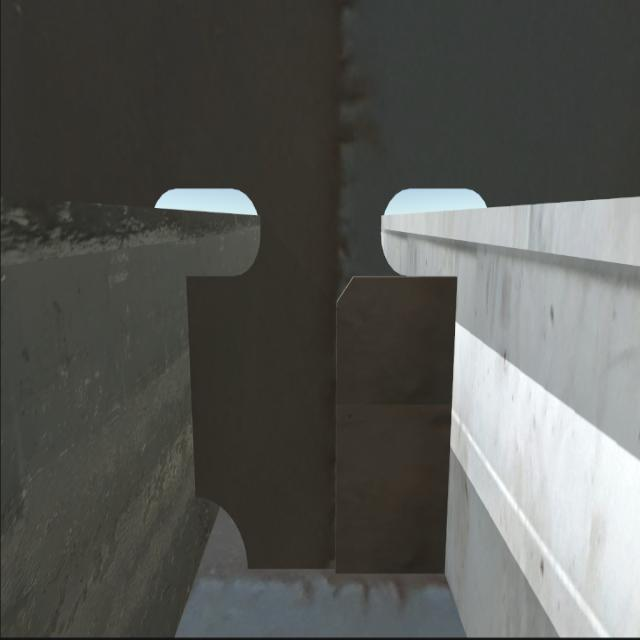fillet_hole: (196, 504, 251, 565)
fillet_yong_jeop_jang: (244, 556, 454, 583)
longi_yong_jeop_jang: (178, 271, 208, 509), (441, 266, 461, 580)
plate_CP03: (335, 271, 451, 573)
